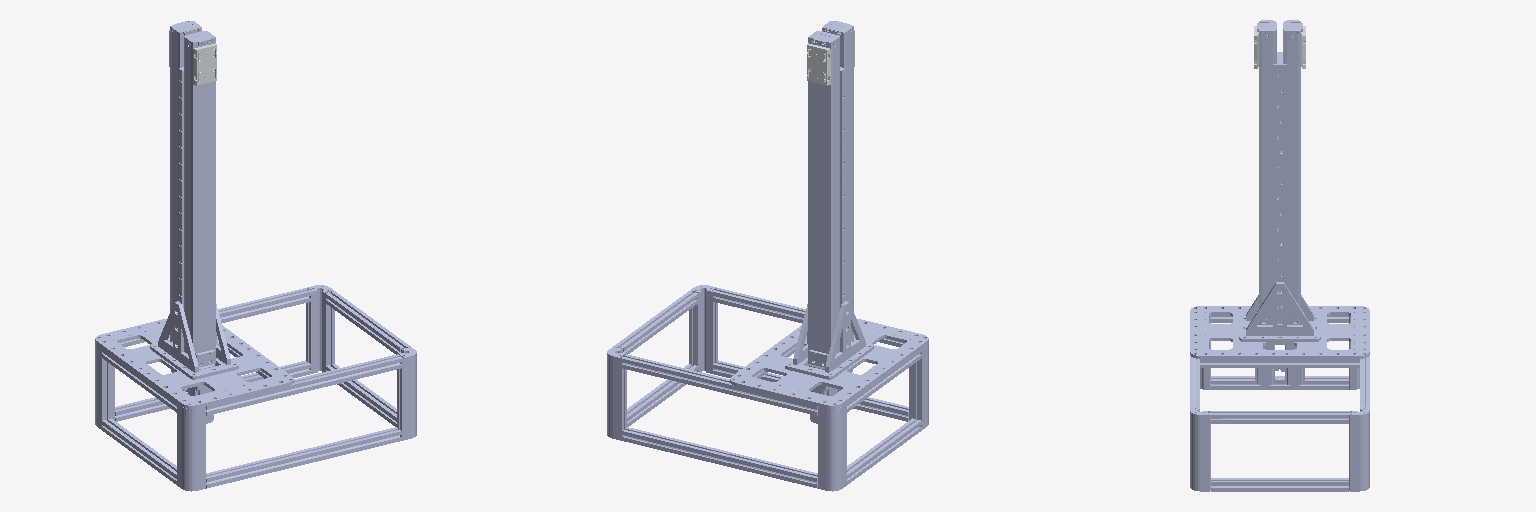
The robot description file, URDF, robot "timda_body":
<?xml version="1.0"?>

<robot
  name="timda_body"
  xmlns:xacro="http://www.ros.org/wiki/xacro">
  <link
    name="base_link">
    <inertial>
      <origin
        xyz="-0.12772 4.4082E-06 0.38955"
        rpy="0 0 0" />
      <mass
        value="29.072" />
      <inertia
        ixx="2.7119"
        ixy="7.603E-06"
        ixz="0.51848"
        iyy="3.3365"
        iyz="-4.3354E-05"
        izz="1.6033" />
    </inertial>
    <visual>
      <origin
        xyz="0 0 0"
        rpy="0 0 0" />
      <geometry>
        <mesh
          filename="package://timda_body/meshes/base_link.STL" />
      </geometry>
      <material
        name="">
        <color
          rgba="0.79216 0.81961 0.93333 1" />
      </material>
    </visual>
    <collision>
      <origin
        xyz="0 0 0"
        rpy="0 0 0" />
      <geometry>
        <mesh
          filename="package://timda_body/meshes/base_link.STL" />
      </geometry>
    </collision>
  </link>
  <link
    name="slide_right">
    <inertial>
      <origin
        xyz="1.5718E-05 -0.006626 2.4586E-06"
        rpy="0 0 0" />
      <mass
        value="0.24709" />
      <inertia
        ixx="0"
        ixy="0"
        ixz="0"
        iyy="0"
        iyz="0"
        izz="0" />
    </inertial>
    <visual>
      <origin
        xyz="0 0 0"
        rpy="0 0 0" />
      <geometry>
        <mesh
          filename="package://timda_body/meshes/slide_right.STL" />
      </geometry>
      <material
        name="">
        <color
          rgba="0.89804 0.91765 0.92941 1" />
      </material>
    </visual>
    <collision>
      <origin
        xyz="0 0 0"
        rpy="0 0 0" />
      <geometry>
        <mesh
          filename="package://timda_body/meshes/slide_right.STL" />
      </geometry>
    </collision>
  </link>
  <joint
    name="joint_right"
    type="prismatic">
    <origin
      xyz="-0.2 0.0765 1.1815"
      rpy="0 0 0" />
      <!--rpy="-2.0485E-16 -4.5768E-16 9.3918E-09" /-->
    <parent
      link="base_link" />
    <child
      link="slide_right" />
    <axis
      xyz="0 0 1" />
    <limit
      effort="0"
      velocity="0" />
  </joint>
  <link
    name="slide_left">
    <inertial>
      <origin
        xyz="-1.5722E-05 0.006626 2.4586E-06"
        rpy="0 0 0" />
      <mass
        value="0.24709" />
      <inertia
        ixx="0"
        ixy="0"
        ixz="0"
        iyy="0"
        iyz="0"
        izz="0" />
    </inertial>
    <visual>
      <origin
        xyz="0 0 0"
        rpy="0 0 0" />
      <geometry>
        <mesh
          filename="package://timda_body/meshes/slide_right.STL" />
      </geometry>
      <material
        name="">
        <color
          rgba="0.89804 0.91765 0.92941 1" />
      </material>
    </visual>
    <collision>
      <origin
        xyz="0 0 0"
        rpy="0 0 0" />
      <geometry>
        <mesh
          filename="package://timda_body/meshes/slide_right.STL" />
      </geometry>
    </collision>
  </link>
  <joint
    name="joint_left"
    type="prismatic">
    <origin
      xyz="-0.2 -0.0765 1.1815"
      rpy="0 0 3.1415926" />
	  <!--rpy="-2.0485E-16 -2.9114E-16 3.1415926" /-->
    <parent
      link="base_link" />
    <child
      link="slide_left" />
    <axis
      xyz="0 0 1" />
    <limit
      effort="0"
      velocity="0" />
  </joint>
</robot>

--- What the picture shows (computed from the rendered views, not written in the file) ---
The picture shows the robot from 3 angles, left to right: view 1: azimuth 30°, elevation 25°; view 2: azimuth 150°, elevation 25°; view 3: azimuth 270°, elevation 25°; orthographic projection.
Robot: timda_body — 3 links, 2 joints (2 prismatic); root link base_link; default pose: every joint at zero.
Links seen in each view (by area): view 1: base_link, slide_left; view 2: base_link, slide_right; view 3: base_link.
Boxes of the visible links, x1,y1,x2,y2 form: base_link: (95,21,416,491); slide_left: (193,43,216,85); base_link: (607,21,928,491); slide_right: (807,43,830,85); base_link: (1190,20,1369,491).
Bounding box of the posed robot: 0.74 × 0.53 × 1.25 m (x, y, z).
Meshes: 2 distinct files referenced, 3 mesh visuals loaded (2 binary STL).
